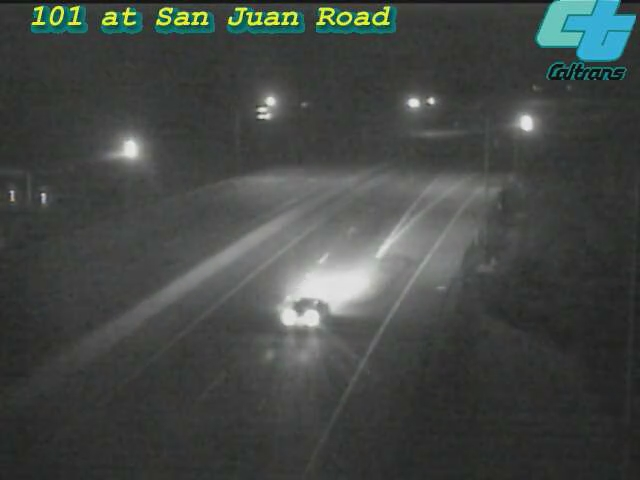vehicle: (264, 269, 344, 349), (503, 97, 553, 147)
